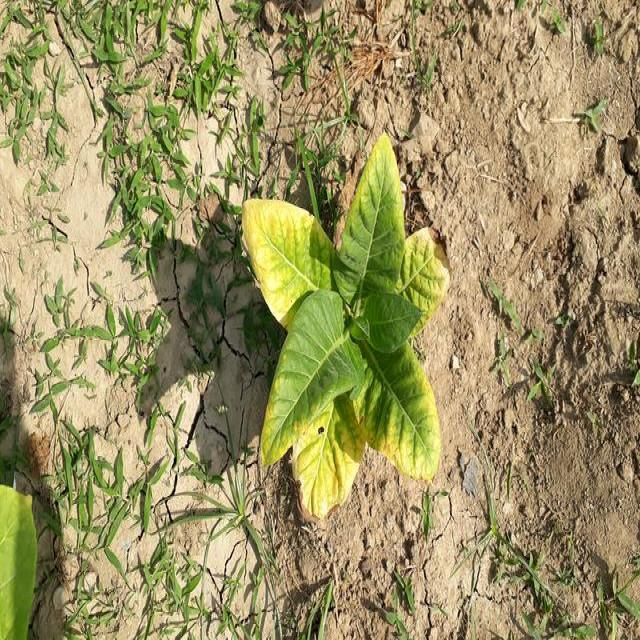crop: (233, 140, 450, 516)
